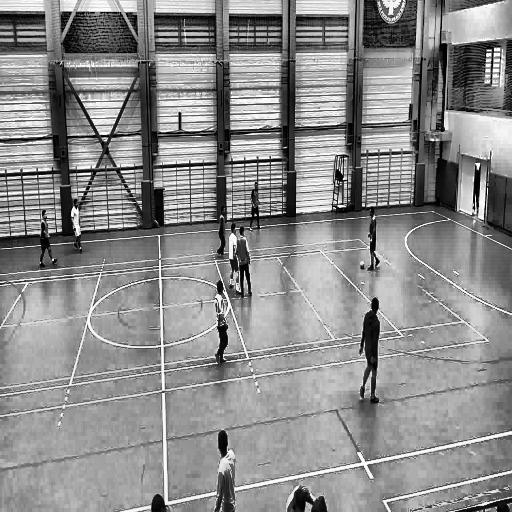ball: (359, 258, 368, 271)
player: (358, 293, 382, 405), (213, 428, 235, 512), (213, 279, 229, 367), (39, 205, 59, 268), (237, 226, 254, 299), (228, 221, 243, 297), (367, 205, 381, 273), (70, 197, 84, 255), (247, 182, 262, 230), (216, 203, 227, 260)
